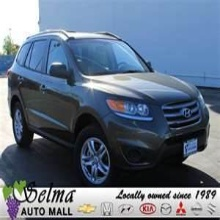no damage: (7, 29, 210, 186)
